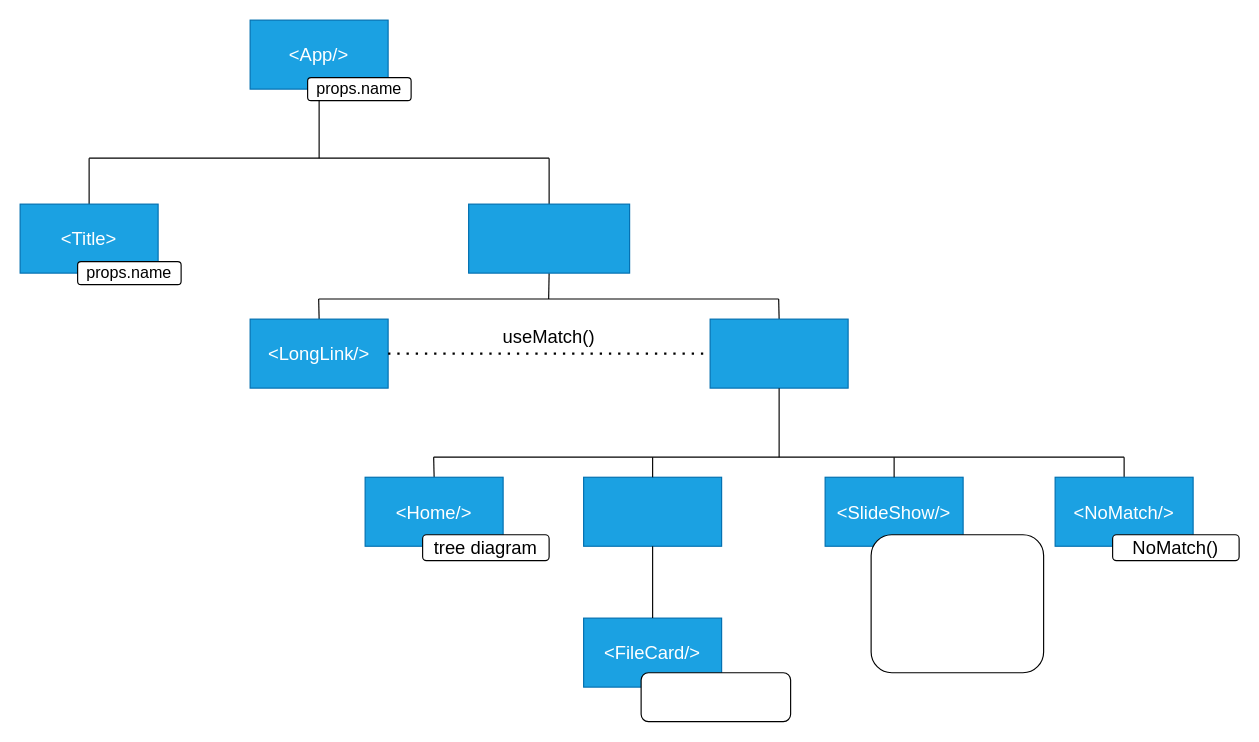
Some shapes in this 1259 by 742 pixel diagram are drawn without their labels. Here are the shapes that lost their labels. From the top down, the box of each, then its label:
(467, 203, 630, 273): <BrowserRouter/>
(709, 318, 848, 388): <Route/>
(582, 476, 722, 546): <Gallery/>
(870, 534, 1044, 673): state.selected state.currentInterval start() stop() faster() slower()
(640, 672, 791, 722): state.selected onMouseOver()
